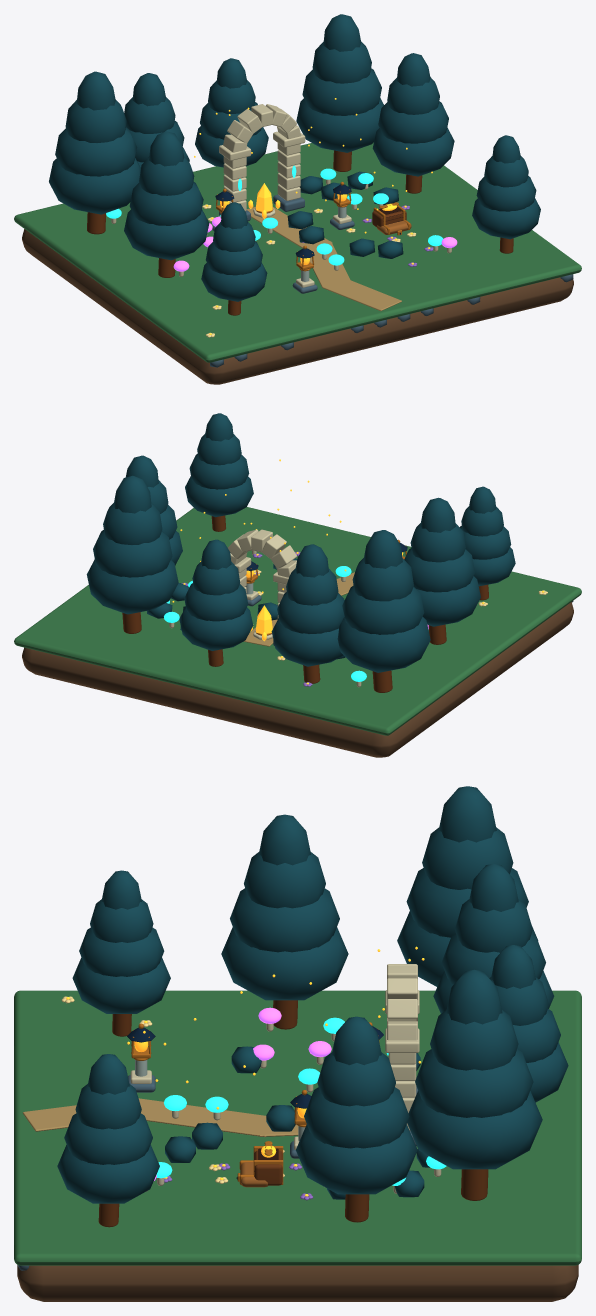
File: 02_firefly_forest.glb
3 views of the same model, one above another, from view 1: azimuth 30°, elevation 25°; view 2: azimuth 150°, elevation 25°; view 3: azimuth 270°, elevation 25° (orthographic). The views are drawn at different scales.
Parts seen in each view (by area): view 1: diorama_surface, diorama_earth, fir_soft_canopy, fir_soft_canopy.012, fir_soft_canopy.001, fir_soft_canopy.020, fir_soft_canopy.013, fir_soft_canopy.016, fir_soft_canopy.021, fir_soft_canopy.017, fir_soft_canopy.002, fir_soft_canopy.014 (+24 smaller); view 2: diorama_surface, diorama_earth, fir_soft_canopy, fir_soft_canopy.012, fir_soft_canopy.001, fir_soft_canopy.013, fir_soft_canopy.004, fir_soft_canopy.021, fir_soft_canopy.008, fir_soft_canopy.002, fir_soft_canopy.005, fir_soft_canopy.020 (+19 smaller); view 3: diorama_surface, diorama_earth, fir_soft_canopy.012, fir_soft_canopy.020, fir_soft_canopy.013, fir_soft_canopy.016, fir_soft_canopy.021, fir_soft_canopy.017, fir_soft_canopy.014, fir_soft_canopy.028, fir_soft_canopy.002, fir_soft_canopy.022 (+32 smaller).
Boxes of the visible parts, left/top/right/bottom form: diorama_surface: left=14, top=142, right=581, bottom=362; diorama_earth: left=22, top=229, right=573, bottom=384; fir_soft_canopy: left=49, top=158, right=140, bottom=214; fir_soft_canopy.012: left=296, top=98, right=383, bottom=152; fir_soft_canopy.001: left=55, top=127, right=137, bottom=176; fir_soft_canopy.020: left=124, top=209, right=209, bottom=260; fir_soft_canopy.013: left=302, top=68, right=381, bottom=115; fir_soft_canopy.016: left=372, top=127, right=454, bottom=176; fir_soft_canopy.021: left=129, top=181, right=203, bottom=225; fir_soft_canopy.017: left=378, top=101, right=448, bottom=143; fir_soft_canopy.002: left=65, top=100, right=126, bottom=142; fir_soft_canopy.014: left=312, top=41, right=371, bottom=83; diorama_surface: left=14, top=507, right=581, bottom=735; diorama_earth: left=22, top=602, right=573, bottom=757; fir_soft_canopy: left=337, top=617, right=430, bottom=672; fir_soft_canopy.012: left=86, top=559, right=178, bottom=614; fir_soft_canopy.001: left=342, top=585, right=424, bottom=634; fir_soft_canopy.013: left=93, top=530, right=172, bottom=577; fir_soft_canopy.004: left=271, top=618, right=343, bottom=666; fir_soft_canopy.021: left=404, top=548, right=475, bottom=592; fir_soft_canopy.008: left=179, top=607, right=253, bottom=650; fir_soft_canopy.002: left=352, top=558, right=413, bottom=601; fir_soft_canopy.005: left=277, top=592, right=344, bottom=633; fir_soft_canopy.020: left=416, top=576, right=480, bottom=626; diorama_surface: left=14, top=990, right=581, bottom=1265; diorama_earth: left=17, top=1265, right=578, bottom=1301; fir_soft_canopy.012: left=407, top=1091, right=542, bottom=1169; fir_soft_canopy.020: left=221, top=927, right=348, bottom=1000; fir_soft_canopy.013: left=415, top=1049, right=533, bottom=1117; fir_soft_canopy.016: left=296, top=1124, right=417, bottom=1194; fir_soft_canopy.021: left=230, top=888, right=339, bottom=952; fir_soft_canopy.017: left=304, top=1087, right=409, bottom=1148; fir_soft_canopy.014: left=430, top=1010, right=518, bottom=1070; fir_soft_canopy.028: left=57, top=1145, right=159, bottom=1203; fir_soft_canopy.002: left=422, top=827, right=513, bottom=889; fir_soft_canopy.022: left=244, top=852, right=325, bottom=908.
Size of the model in its own units: 9.7 by 4.9 by 8.7.
